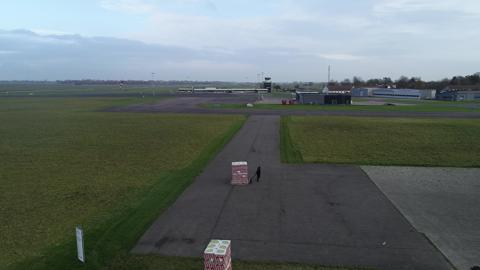RockwoolPallet: (232, 161, 248, 182)
